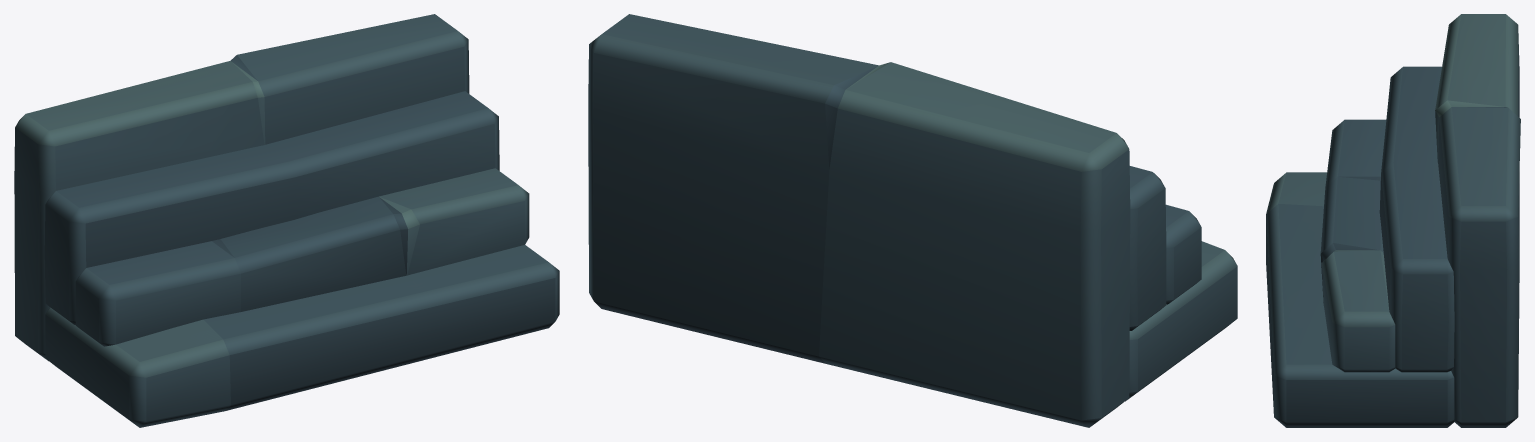
File: stair_2.fbx
3 views of the same model, side by side, from view 1: azimuth 30°, elevation 25°; view 2: azimuth 150°, elevation 25°; view 3: azimuth 270°, elevation 25° (orthographic). The views are drawn at different scales.
Parts seen in each view (by area): view 1: stair_2; view 2: stair_2; view 3: stair_2.
Part boxes in pixels (x1,y1,x2,y2): stair_2: (14, 14, 559, 427); stair_2: (588, 14, 1237, 427); stair_2: (1266, 14, 1520, 427).
Size of the model in its own units: 205 by 108 by 109.
